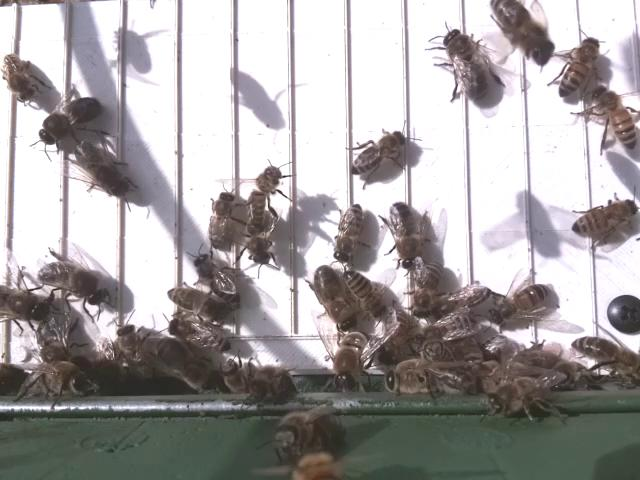Drone: (440, 23, 492, 105), (34, 254, 109, 307), (73, 135, 134, 199), (36, 94, 105, 147), (312, 260, 357, 333), (387, 198, 421, 272)
Worker: (590, 86, 640, 155), (192, 249, 246, 308), (346, 128, 409, 178), (555, 35, 601, 102), (487, 283, 555, 327), (570, 196, 640, 238), (245, 162, 283, 231), (342, 267, 390, 319), (166, 284, 227, 324), (332, 202, 366, 264), (0, 52, 40, 103), (412, 259, 445, 319), (208, 190, 238, 250)
